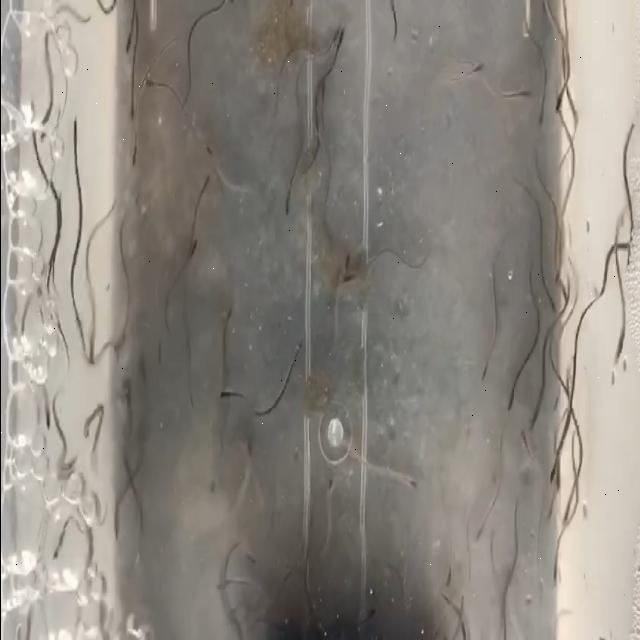active_glass_eel: (18, 95, 44, 141), (611, 316, 631, 366), (461, 56, 486, 95), (31, 102, 54, 144), (549, 73, 571, 115), (550, 432, 566, 486), (85, 316, 102, 364), (515, 421, 533, 466), (550, 366, 566, 416), (130, 352, 150, 391), (319, 468, 339, 507), (474, 508, 494, 546), (510, 84, 534, 114), (396, 468, 417, 501), (524, 397, 540, 438), (278, 182, 296, 218), (548, 538, 561, 586), (238, 433, 254, 472), (69, 116, 83, 160), (44, 399, 58, 442), (341, 265, 361, 295), (128, 132, 140, 178), (533, 94, 547, 132), (556, 266, 568, 310), (441, 558, 456, 592), (504, 380, 516, 422), (620, 244, 634, 279), (186, 233, 200, 268), (334, 21, 344, 68), (218, 380, 236, 406), (338, 246, 352, 278), (198, 170, 215, 196), (203, 133, 214, 173), (477, 351, 492, 380), (557, 496, 572, 525), (121, 30, 135, 60), (544, 290, 557, 322), (143, 72, 163, 90), (126, 97, 138, 126), (328, 15, 339, 44), (318, 78, 329, 104)
